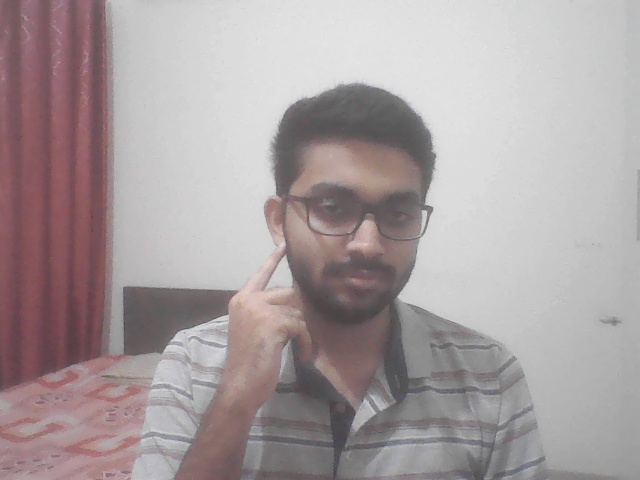deaf: (209, 221, 314, 428)
